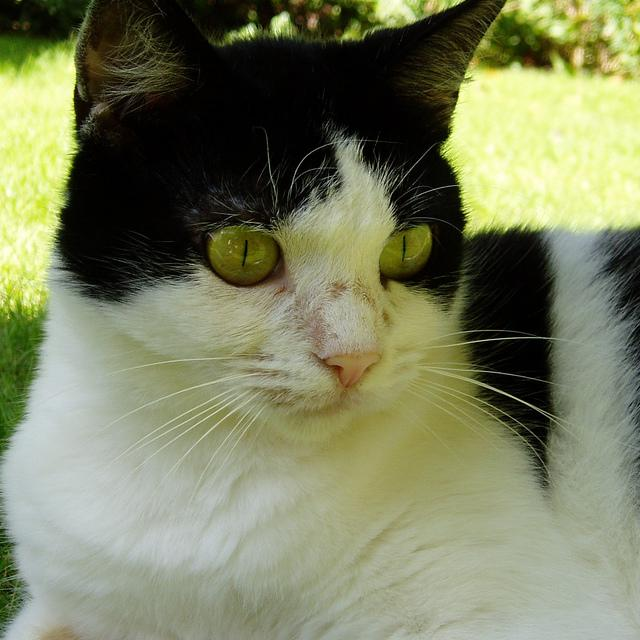animals: (78, 0, 504, 381)
